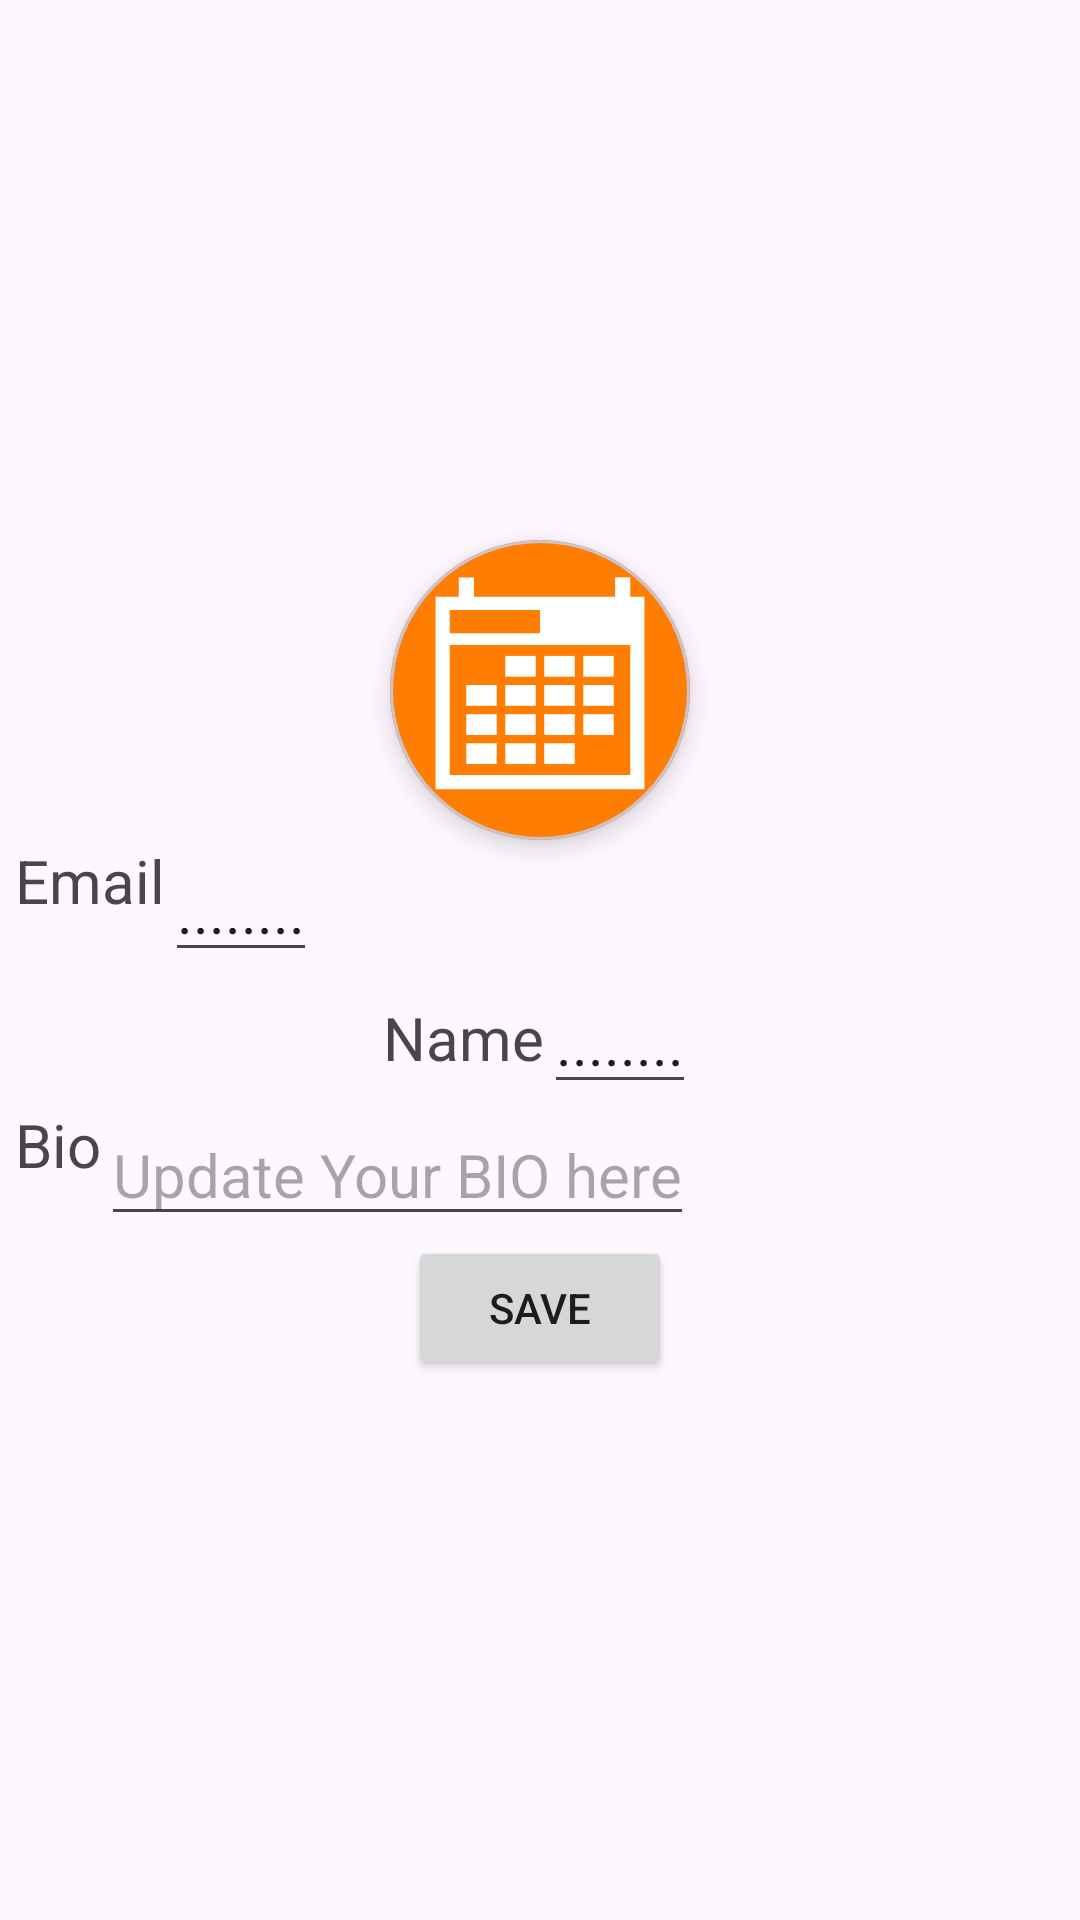

Point at icon controls on the screen. Image size 1080w x 1920h, points as (x=x, y=y).
calender: (x=540, y=690)
